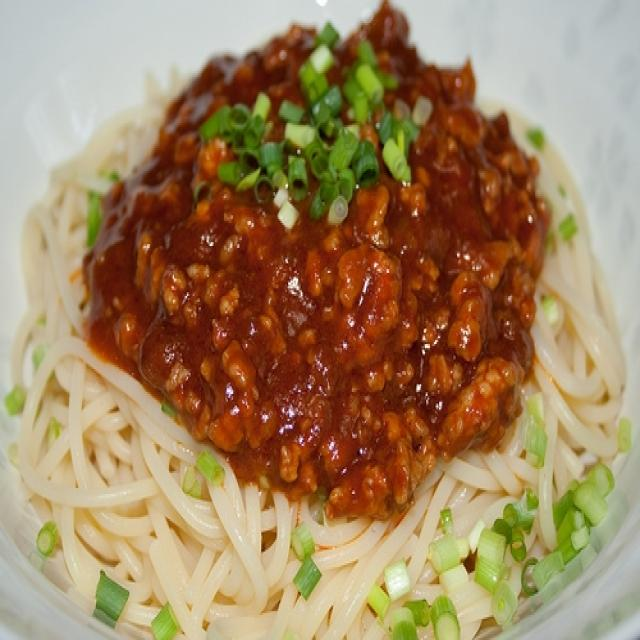面条主食: (16, 9, 606, 626)
